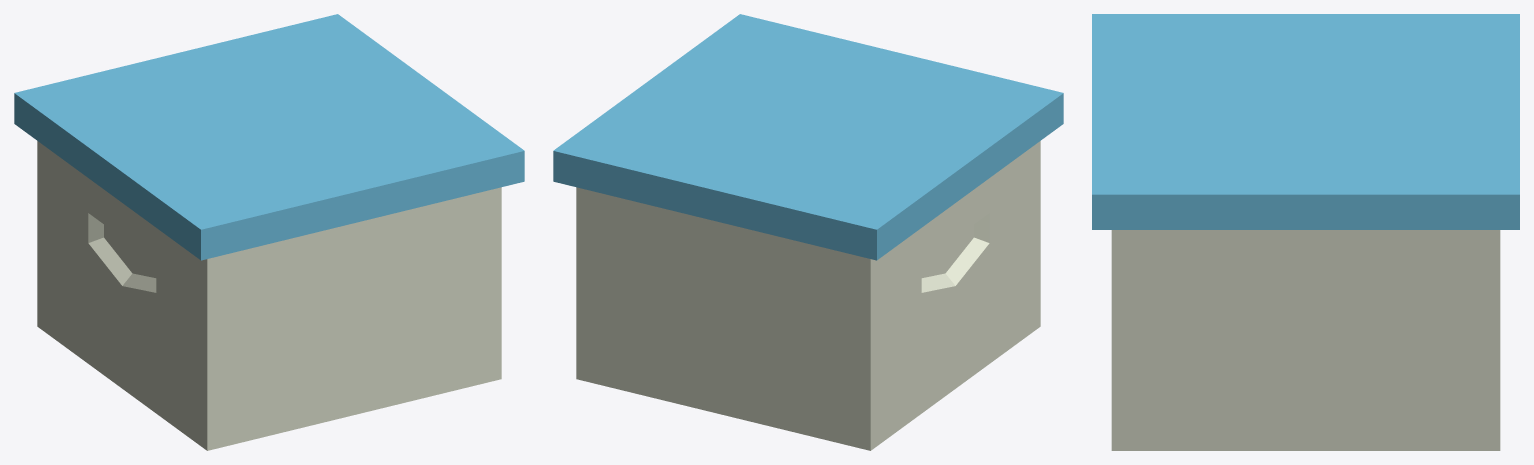
Rendered from BeeBox.fbx.
3 views of the same model, side by side, from view 1: azimuth 30°, elevation 25°; view 2: azimuth 150°, elevation 25°; view 3: azimuth 270°, elevation 25° (orthographic). The views are drawn at different scales.
Parts seen in each view (by area): view 1: BeeBox_Body, BeeBox_Lid; view 2: BeeBox_Body, BeeBox_Lid; view 3: BeeBox_Lid, BeeBox_Body.
Part boxes in pixels (bbox=[...]): BeeBox_Body: bbox=[37, 141, 501, 450]; BeeBox_Lid: bbox=[14, 14, 524, 260]; BeeBox_Body: bbox=[576, 141, 1040, 450]; BeeBox_Lid: bbox=[553, 14, 1063, 260]; BeeBox_Lid: bbox=[1092, 14, 1519, 229]; BeeBox_Body: bbox=[1111, 230, 1500, 450].
Bounding box in the file's own units: 110 × 75 × 110.
